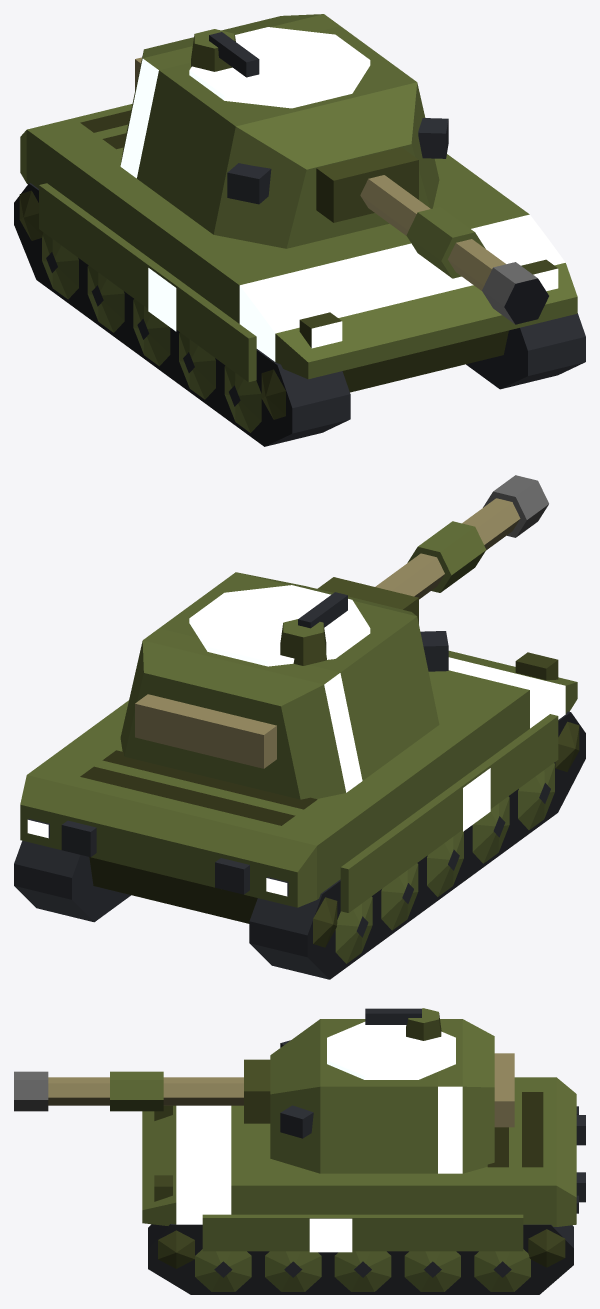
Rendered from army_tank.glb.
3 renders of one model, top to bottom at view 1: azimuth 30°, elevation 25°; view 2: azimuth 150°, elevation 25°; view 3: azimuth 270°, elevation 25°, orthographic. The views are drawn at different scales.
Parts seen in each view (by area): view 1: hull, turret, track_R, barrel, track_L; view 2: hull, turret, track_R, barrel, track_L; view 3: hull, turret, track_L, barrel.
Part boxes in pixels (x1,y1,x2,y2): hull: (20, 104, 577, 392); turret: (120, 14, 448, 248); track_R: (14, 183, 350, 446); barrel: (316, 147, 548, 324); track_L: (466, 313, 585, 389); hull: (20, 650, 577, 923); turret: (120, 572, 448, 799); track_R: (249, 711, 585, 979); barrel: (317, 475, 548, 623); track_L: (14, 840, 130, 922); hull: (142, 1077, 585, 1252); turret: (270, 1008, 514, 1173); track_L: (148, 1224, 573, 1294); barrel: (14, 1059, 270, 1123).
Bounding box in the file's own units: 3.9 × 3.29 × 8.03.
